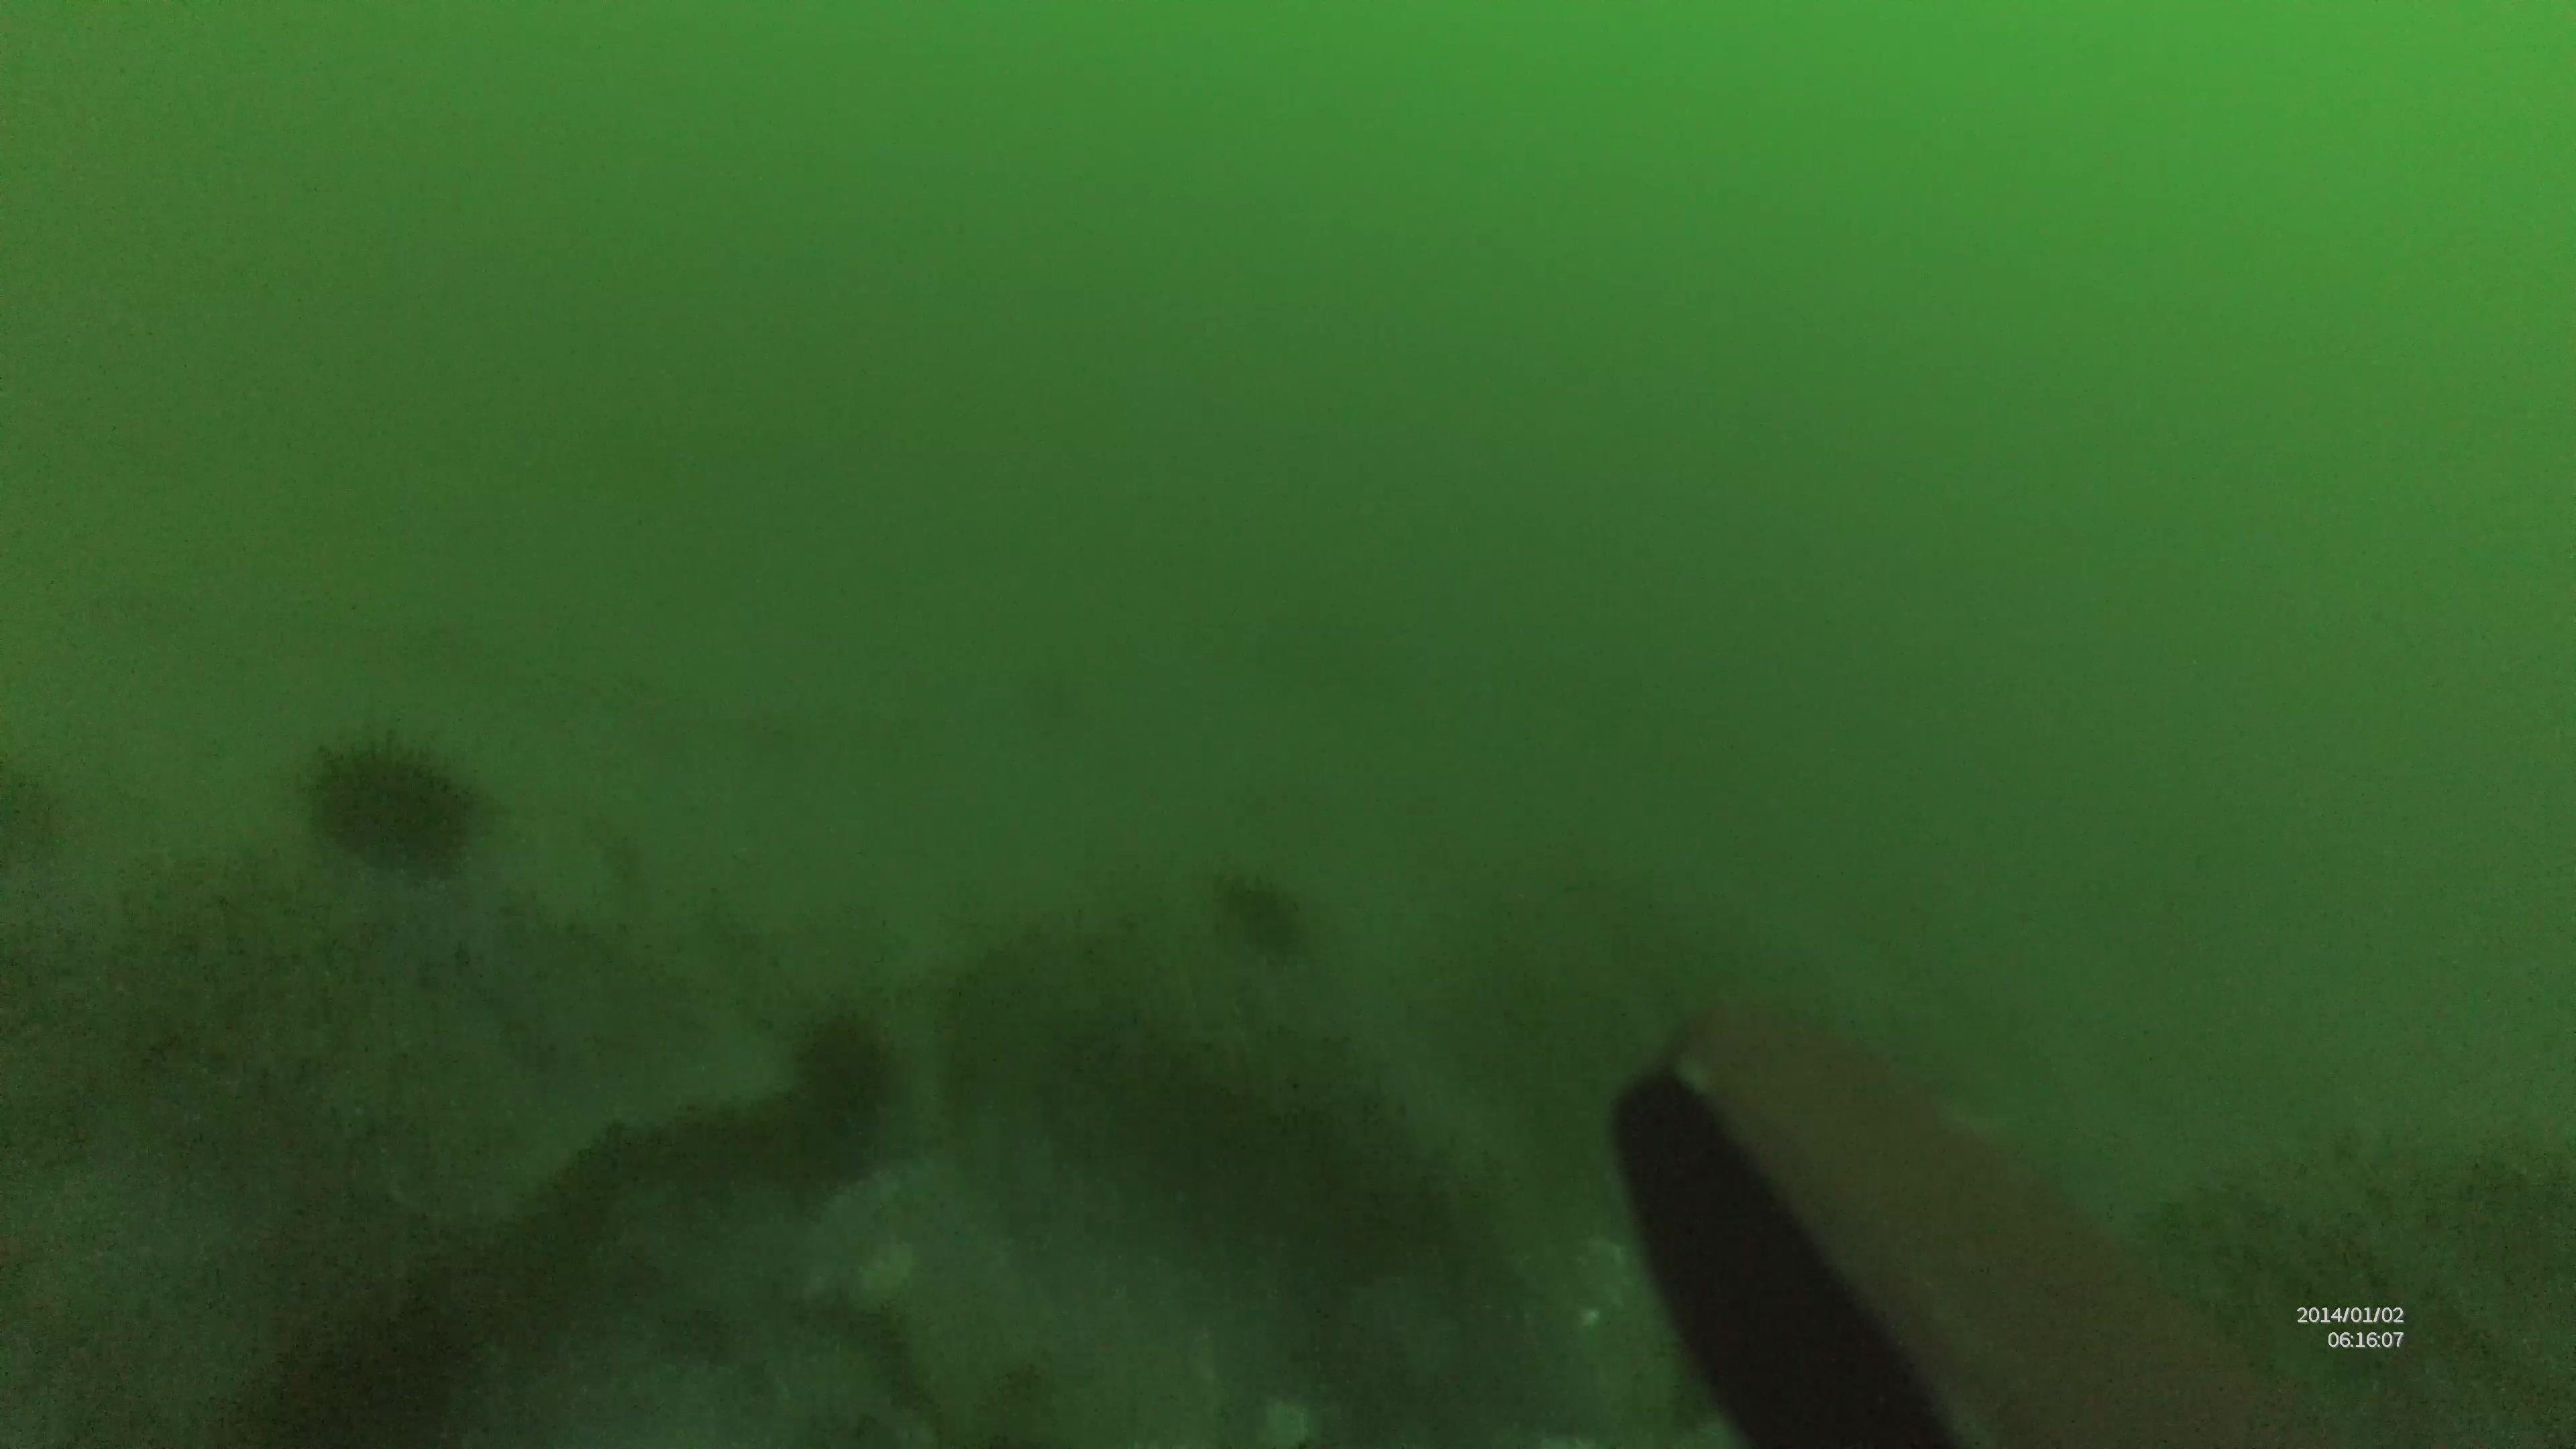echinus: (301, 731, 488, 886), (787, 1010, 892, 1115)
